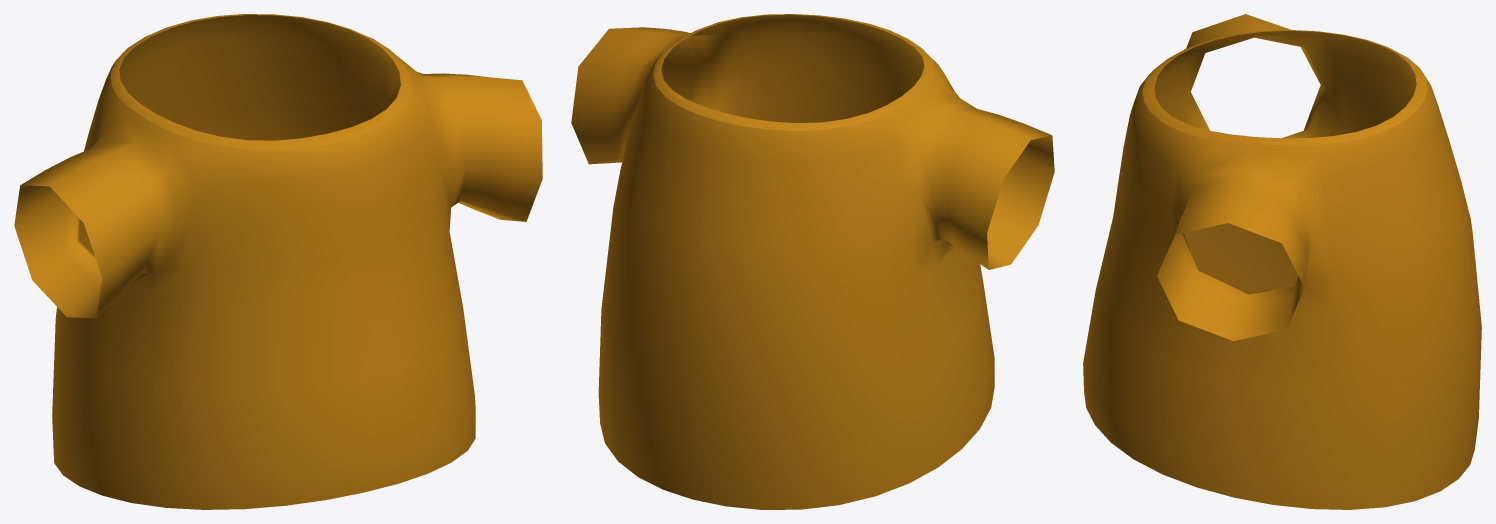
Rendered from T-Shirt.fbx.
The picture shows the model from 3 angles, left to right: view 1: azimuth 30°, elevation 25°; view 2: azimuth 150°, elevation 25°; view 3: azimuth 270°, elevation 25°; orthographic projection. The views are drawn at different scales.
Visible parts, largest first — view 1: Body.007; view 2: Body.007; view 3: Body.007.
Part boxes in pixels (x1,y1,x2,y2): Body.007: [14, 14, 542, 509]; Body.007: [571, 14, 1054, 509]; Body.007: [1083, 14, 1481, 509].
Bounding box in the file's own units: 182 × 147 × 146.
